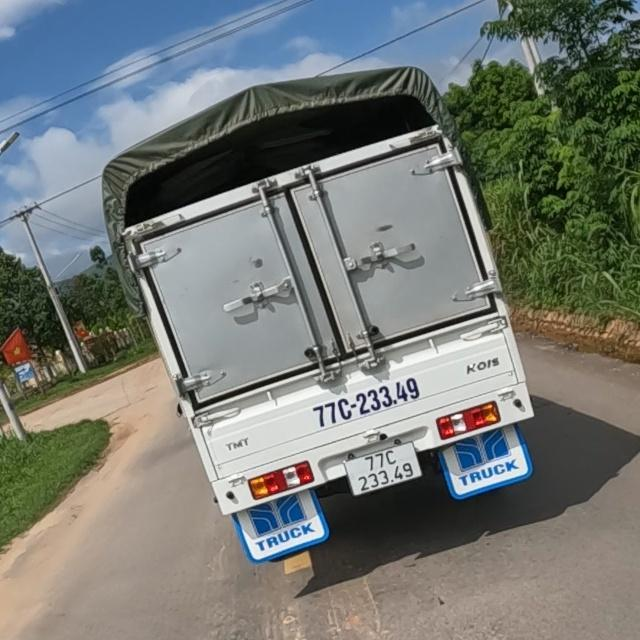car: (102, 65, 534, 572)
plate: (339, 441, 429, 500)
